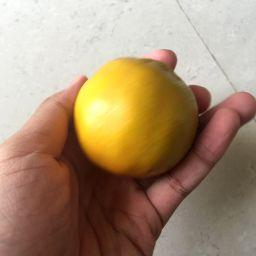Ripe: (75, 57, 198, 171)
